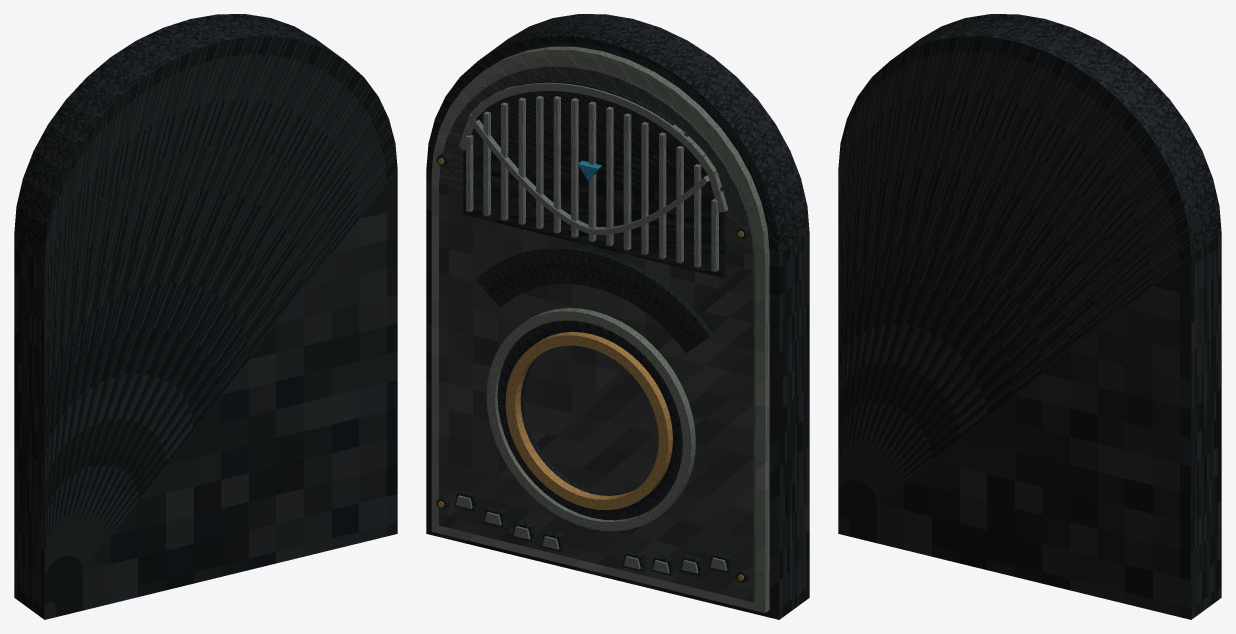
The model's file is destiny_door_controller_body_offset_1.obj.
The picture shows the model from 3 angles, left to right: view 1: azimuth 30°, elevation 25°; view 2: azimuth 150°, elevation 25°; view 3: azimuth 330°, elevation 25°; orthographic projection.
Parts seen in each view (by area): view 1: Destiny_airlock_controller; view 2: Destiny_airlock_controller; view 3: Destiny_airlock_controller.
Boxes of the visible parts, box(x1,y1,x2,y2) form: Destiny_airlock_controller: box(14, 14, 397, 619); Destiny_airlock_controller: box(426, 14, 809, 619); Destiny_airlock_controller: box(838, 14, 1221, 619).
Bounding box in the file's own units: 0.5242 × 0.7602 × 0.1189.
